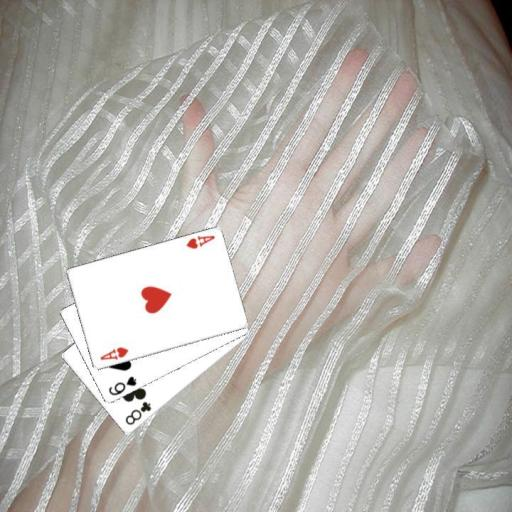6S: (105, 374, 138, 398)
8C: (121, 398, 153, 427)
AH: (183, 233, 216, 251), (97, 344, 129, 362)
